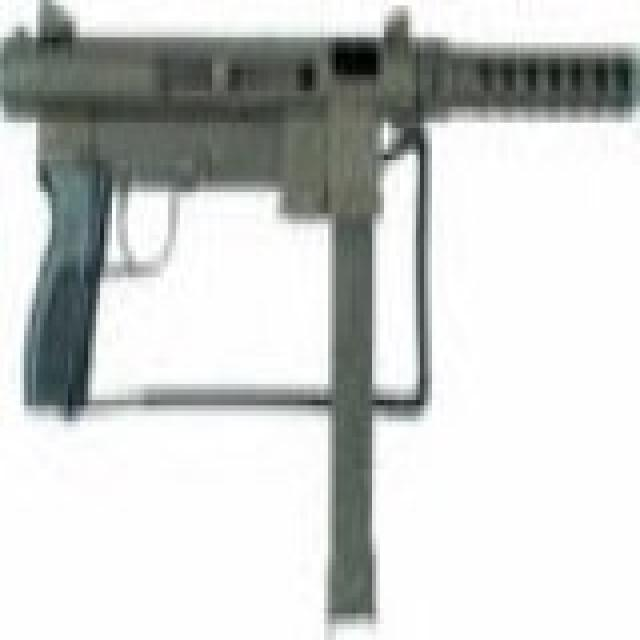Gun: (5, 3, 637, 617)
